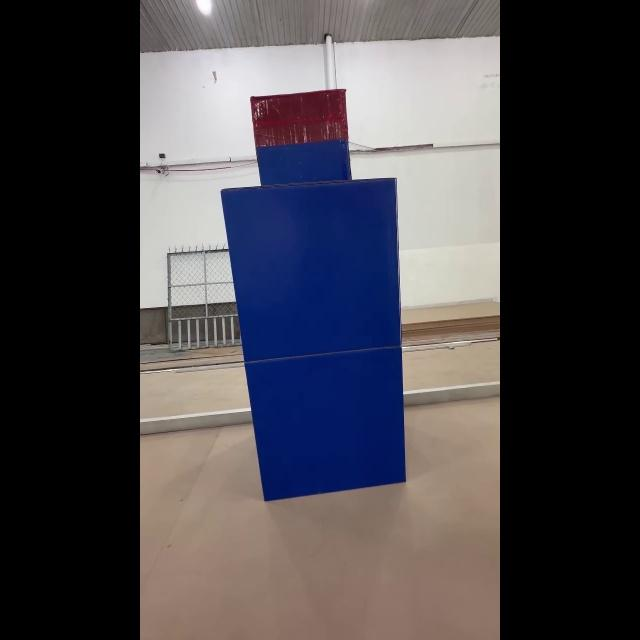earth_block: (220, 178, 400, 352), (231, 352, 411, 502)
sky_block: (245, 87, 352, 184)
